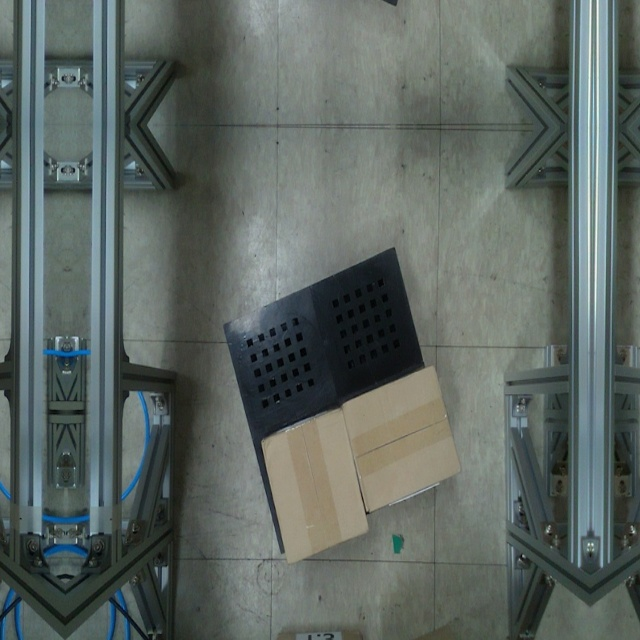box: (341, 361, 463, 516), (258, 404, 371, 569)
